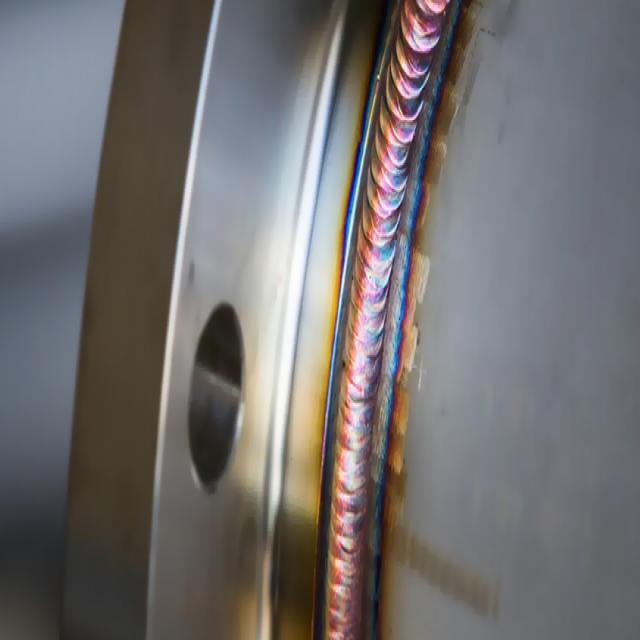Good Weld: (320, 36, 400, 638)
